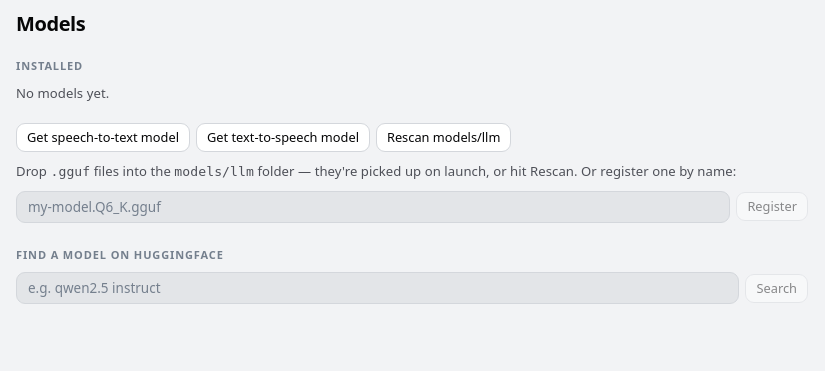
Models page › shows an offline state when search fails
Type "qwen" into the field named "Search HuggingFace" at [378, 288], box [16, 272, 740, 304]
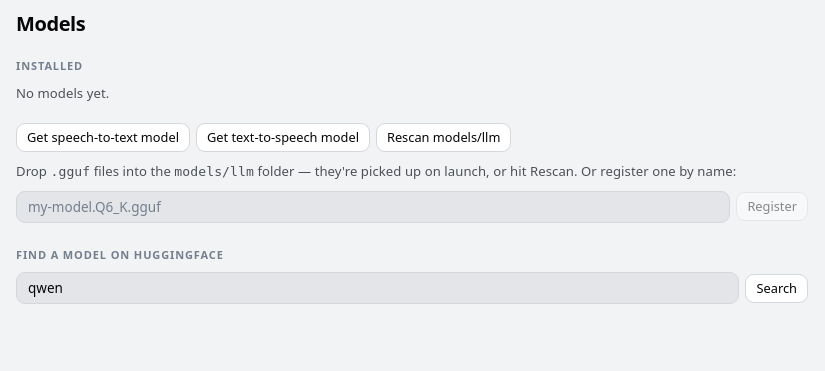
Click the button "Search" at [777, 288], box [746, 274, 808, 303]
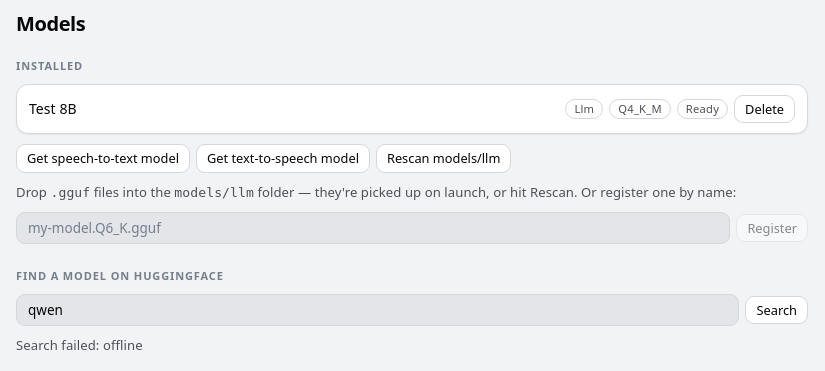
expect the text "Search failed: offline" is shown: met, box [16, 336, 143, 354]
